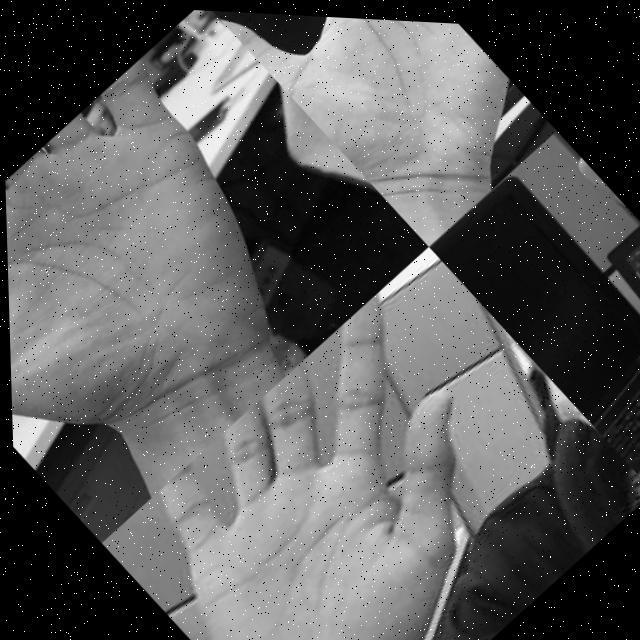no-gloves: (92, 279, 572, 640), (1, 45, 348, 523), (204, 8, 541, 227)
